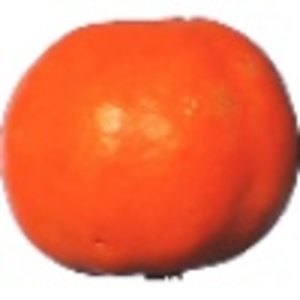tangerina: (1, 15, 300, 280)
